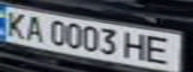0: (45, 18, 69, 47), (81, 24, 103, 54), (63, 20, 84, 51)
3: (100, 26, 121, 57)
A: (21, 14, 48, 43)
E: (142, 34, 181, 66)
H: (121, 29, 151, 62)
K: (0, 9, 30, 38)
